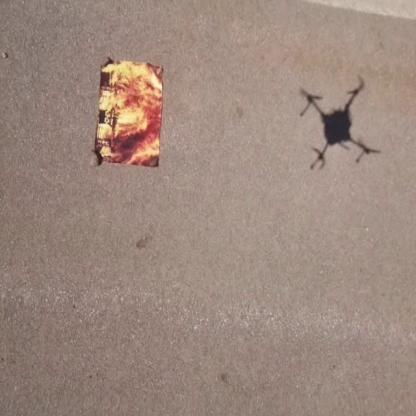fire-poster: (93, 56, 164, 170)
